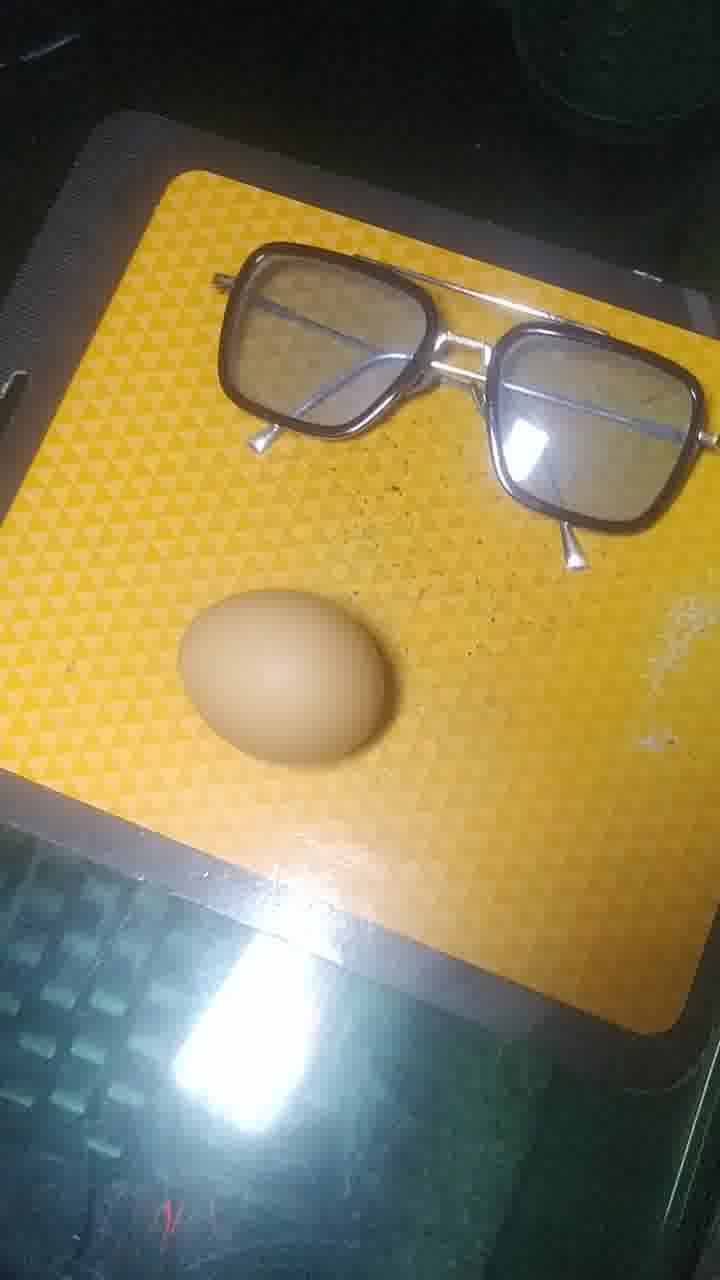egg: (168, 576, 406, 776)
sunglass: (208, 238, 720, 568)
